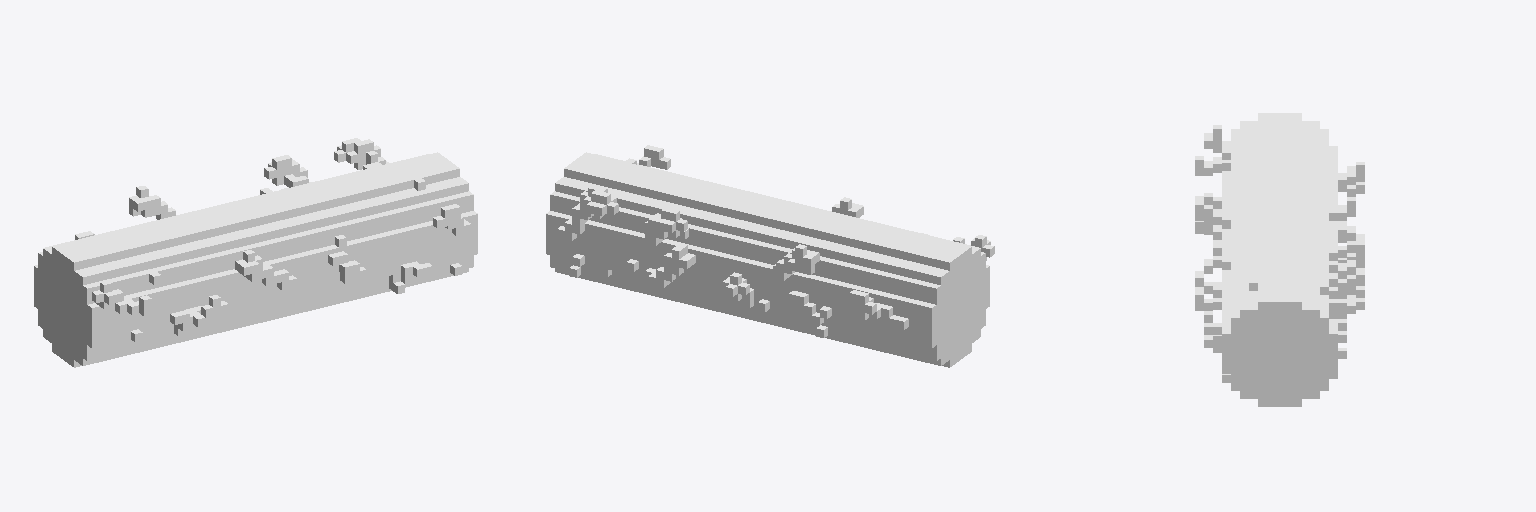
Rendered from BeaverDamPalki-0.obj.
3 renders of one model, left to right at view 1: azimuth 30°, elevation 25°; view 2: azimuth 150°, elevation 25°; view 3: azimuth 270°, elevation 25°, orthographic.
Visible parts, largest first — view 1: object 1; view 2: object 1; view 3: object 1.
Part boxes in pixels (x1,y1,x2,y2): object 1: (34, 138, 477, 367); object 1: (546, 145, 994, 367); object 1: (1195, 113, 1364, 406).
Bounding box in the file's own units: 5 × 1.4 × 1.9.